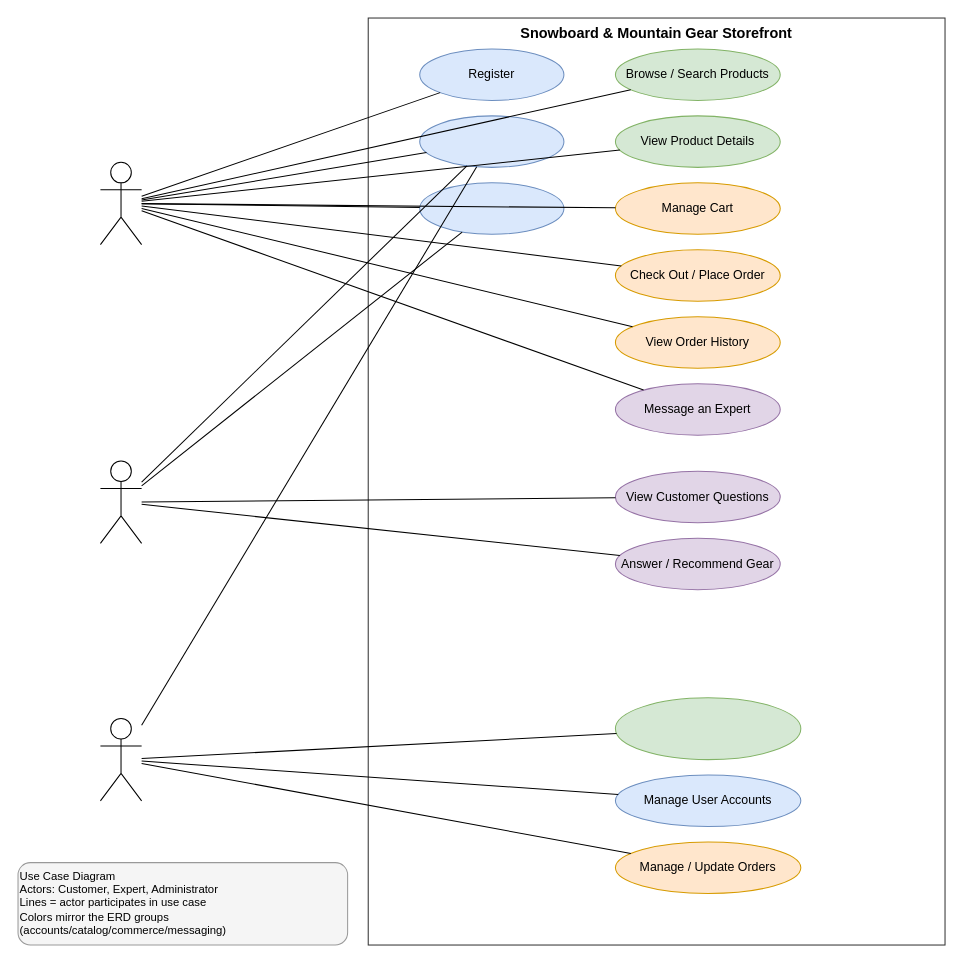
Image size: 963x963. Some labels were removed from this diagram. Here are the shapes that lost their labels. From the top down, the centre of each, then its label:
point (491, 141): Log In / Log Out
point (120, 203): Customer
point (491, 208): Manage Profile
point (120, 501): Expert
point (707, 728): Manage Catalog (Products / Categories)
point (120, 759): Administrator
